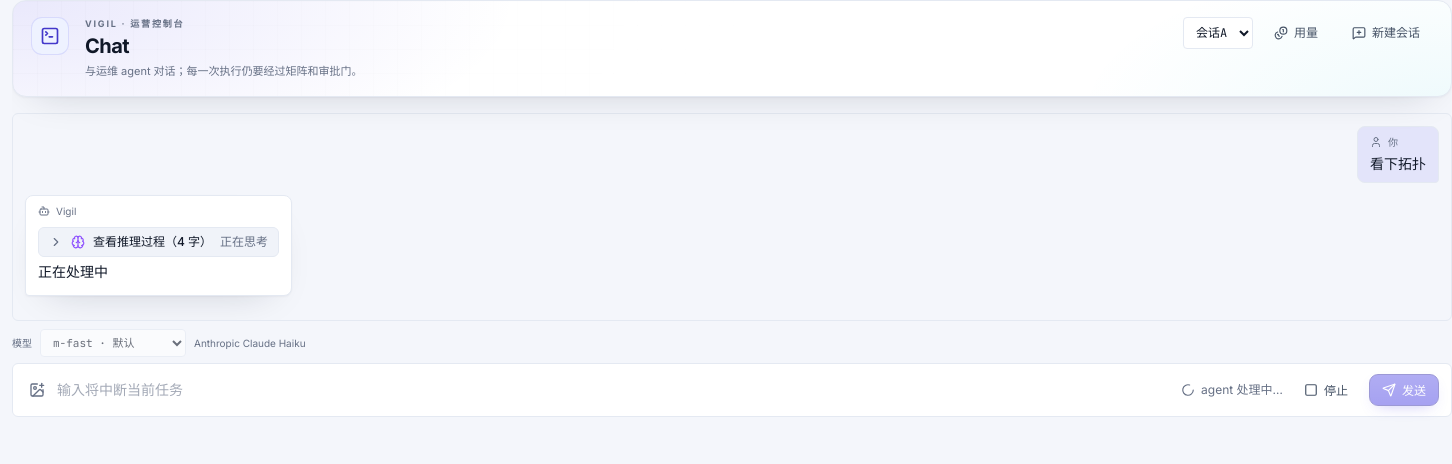
Scenario: 批四十一 §7 切走再切回 busy 指示恢复 › 切回后 busy 会话显示处理中指示；输入保持可用（task31 PART C type-to-interrupt），placeholder 提示将中断
The width and height of the screenshot is (1452, 464).
Expected: the text box with placeholder "输入将中断当前任务" is enabled, x1=57 y1=372 x2=1173 y2=408
Select "会话B" in the dropdown titled "活会话切换" at (1218, 33), box x1=1183 y1=17 x2=1253 y2=49
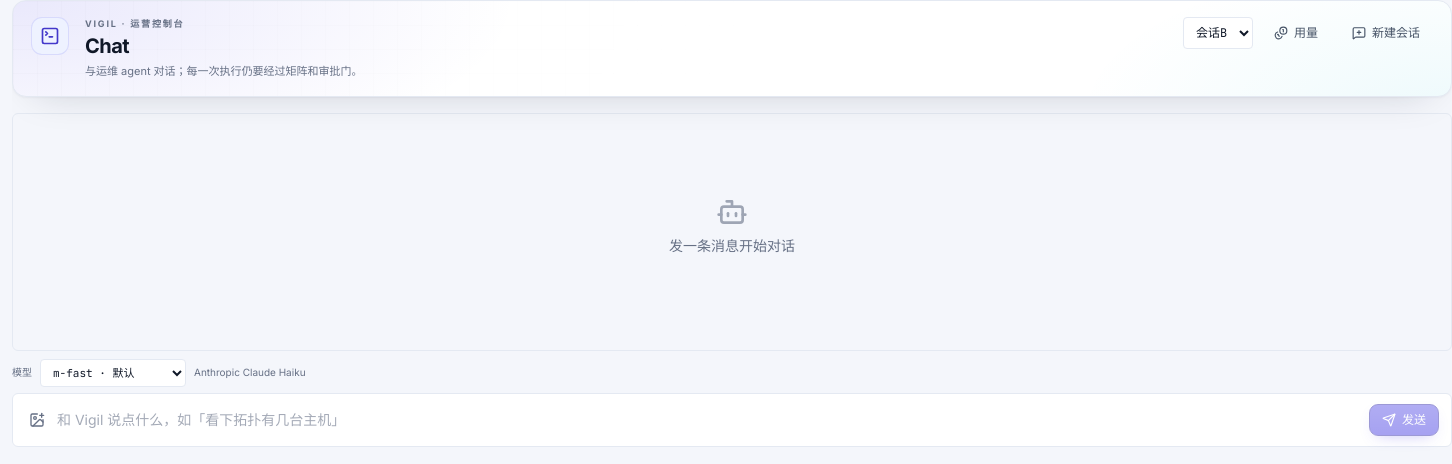
Expected: the text box with placeholder "和 Vigil 说点什么，如「看下拓扑有几台主机」" is enabled, x1=57 y1=402 x2=1361 y2=438
Select "会话A" in the dropdown titled "活会话切换" at (1218, 33), box x1=1183 y1=17 x2=1253 y2=49
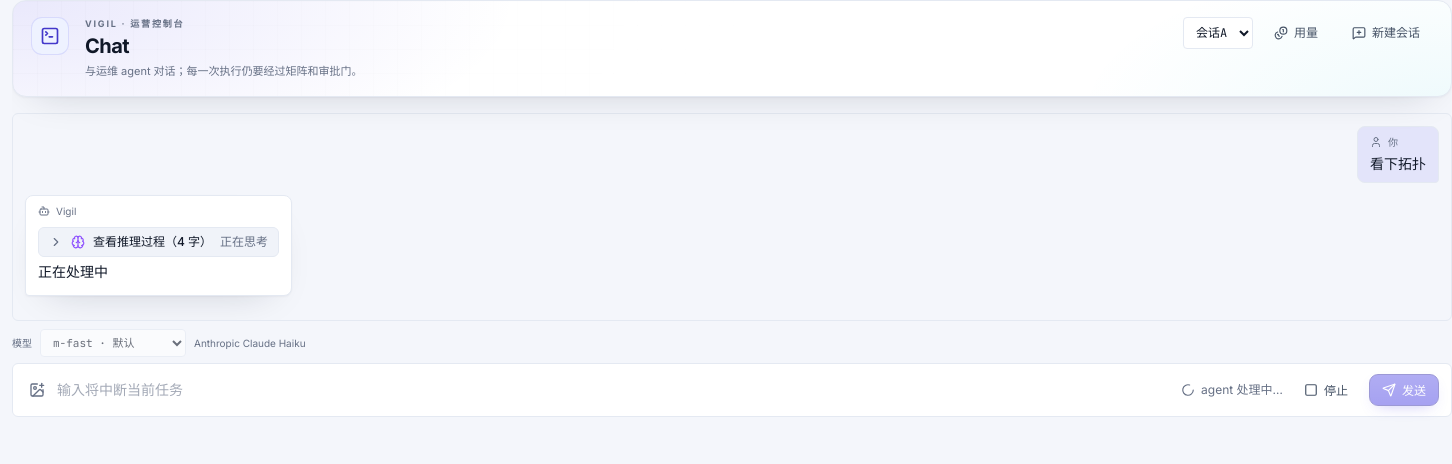
Expected: the text box with placeholder "输入将中断当前任务" is enabled, x1=57 y1=372 x2=1173 y2=408
Result: the text "agent 处理中" is shown at x1=1201 y1=382 x2=1283 y2=397
Result: the text "正在处理中" is shown at x1=38 y1=263 x2=108 y2=280
